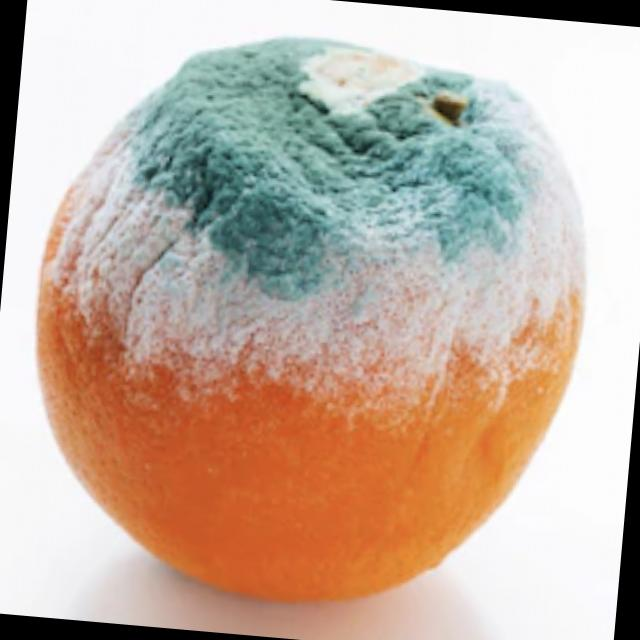rotten-orange: (16, 22, 604, 623)
